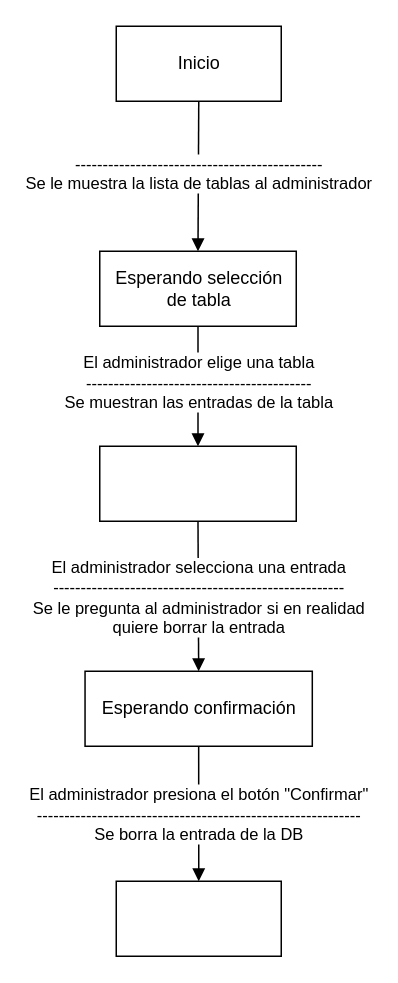
Some shapes in this 398 by 983 pixel diagram are drawn without their labels. The centre of each missing label's shape, as x and y in pixels:
Esperando selección de entrada: pixel 197 483
Fin: pixel 198 918
